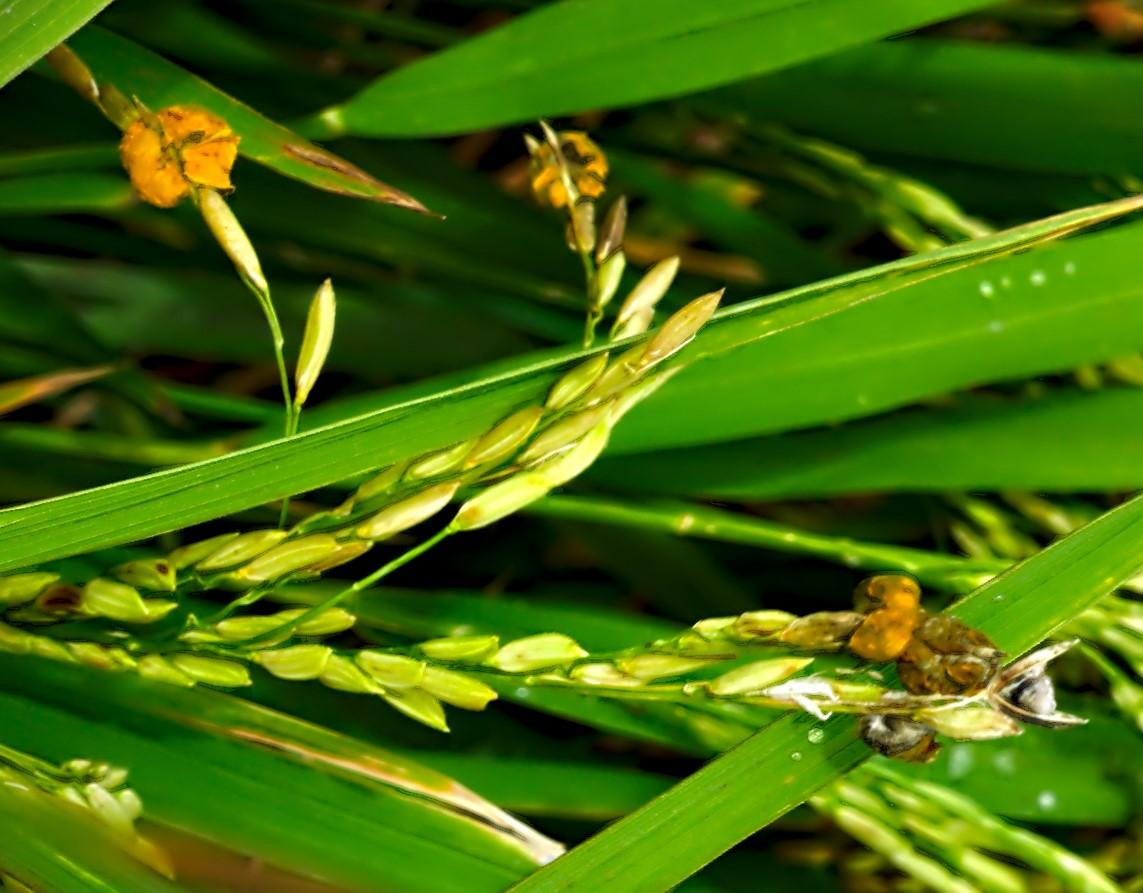False Smut: (120, 108, 255, 212), (880, 608, 1030, 697), (832, 557, 915, 662), (858, 695, 950, 772), (532, 125, 608, 215)
